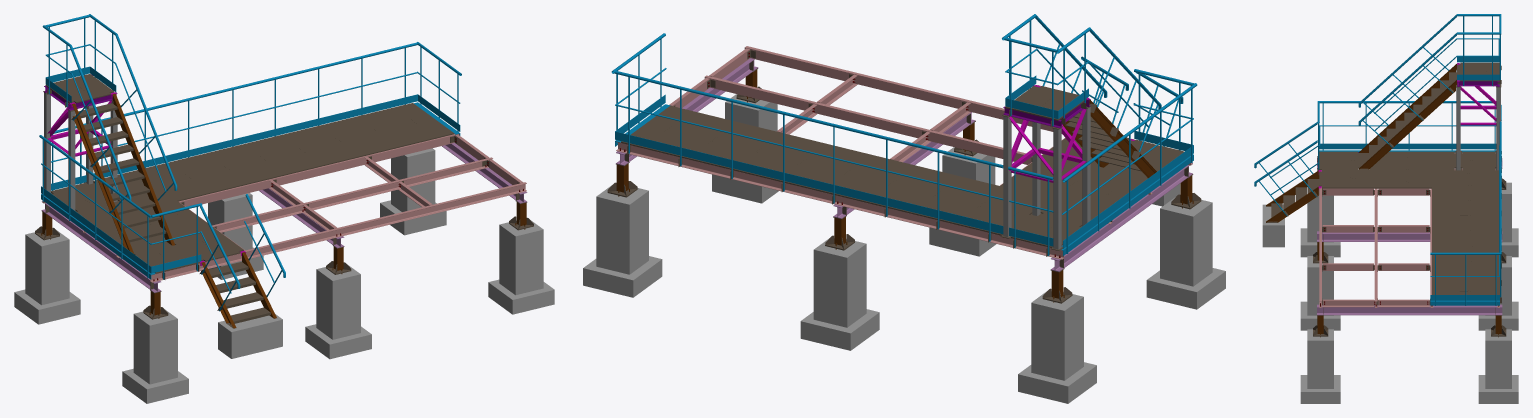
File: roundwood_warehouse.glb
The picture shows the model from 3 angles, left to right: view 1: azimuth 30°, elevation 25°; view 2: azimuth 150°, elevation 25°; view 3: azimuth 270°, elevation 25°; orthographic projection. The views are drawn at different scales.
Visible parts, largest first — view 1: Layers; view 2: Layers; view 3: Layers.
Boxes of the visible parts, x1,y1,x2,y2 form: Layers: (14, 14, 554, 403); Layers: (583, 14, 1225, 403); Layers: (1254, 14, 1518, 403).
Bounding box in the file's own units: 8700 × 5800 × 5939.
